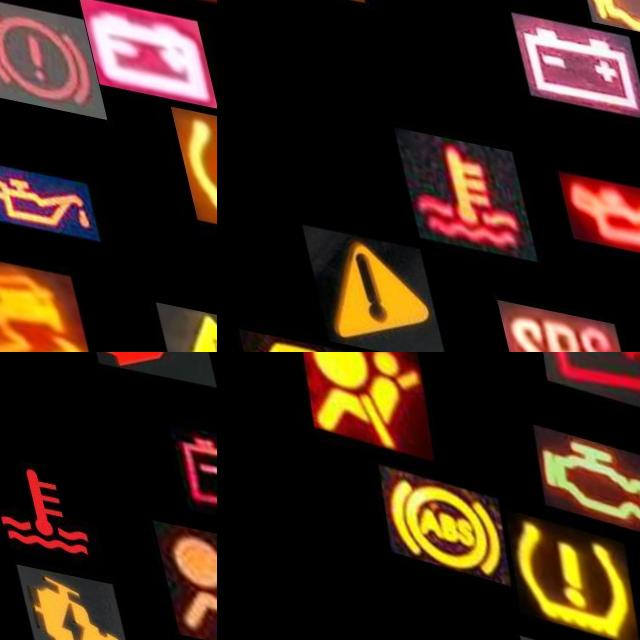Central Warning lamp: (284, 218, 424, 352), (134, 290, 217, 352)
Engine cooling system: (382, 116, 521, 246), (0, 425, 89, 562)
